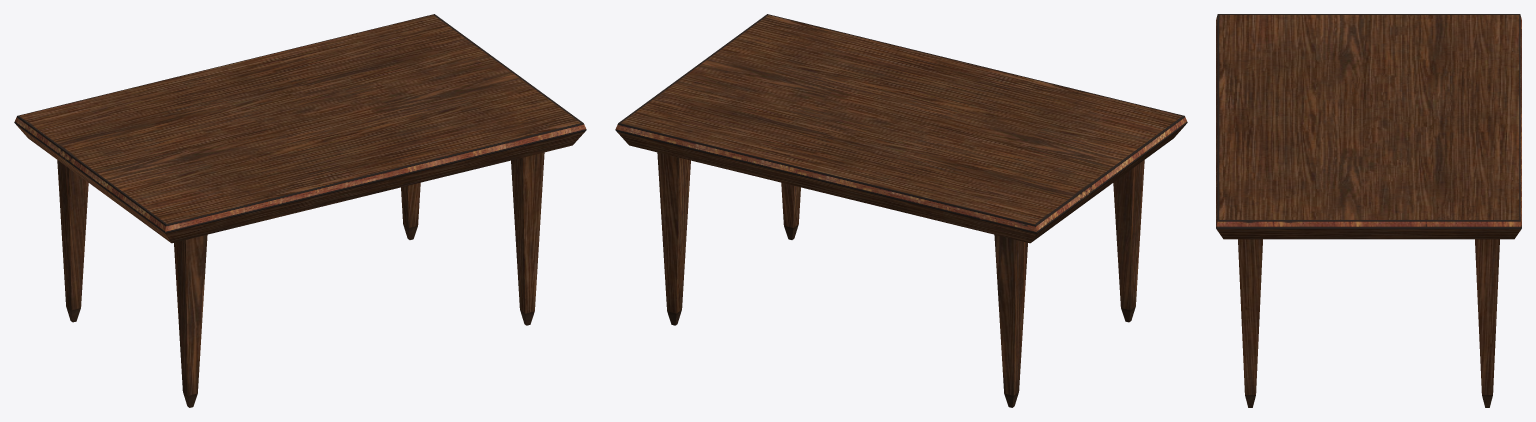
Rendered from table.obj.
3 views of the same model, side by side, from view 1: azimuth 30°, elevation 25°; view 2: azimuth 150°, elevation 25°; view 3: azimuth 270°, elevation 25° (orthographic).
Parts seen in each view (by area): view 1: Table_Cube.004; view 2: Table_Cube.004; view 3: Table_Cube.004.
Boxes of the visible parts, x1,y1,x2,y2 form: Table_Cube.004: (14,14,586,407); Table_Cube.004: (615,14,1187,407); Table_Cube.004: (1216,14,1521,407).
Size of the model in its own units: 1.84 by 0.8472 by 1.14.
